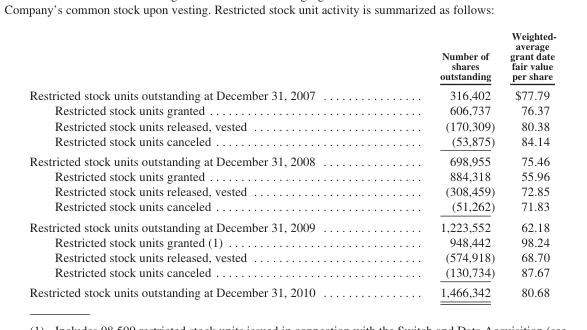table: (28, 29, 555, 298)
table column: (28, 29, 376, 298), (376, 29, 501, 298), (501, 29, 555, 298)
table column header: (28, 29, 555, 84)
table row: (28, 29, 555, 84), (28, 84, 555, 102), (28, 132, 555, 150), (28, 150, 555, 168), (28, 198, 555, 216), (28, 216, 555, 233), (28, 264, 555, 281), (28, 281, 555, 298), (28, 233, 555, 249), (28, 102, 555, 117), (28, 117, 555, 132), (28, 168, 555, 183), (28, 183, 555, 198), (28, 249, 555, 264)
